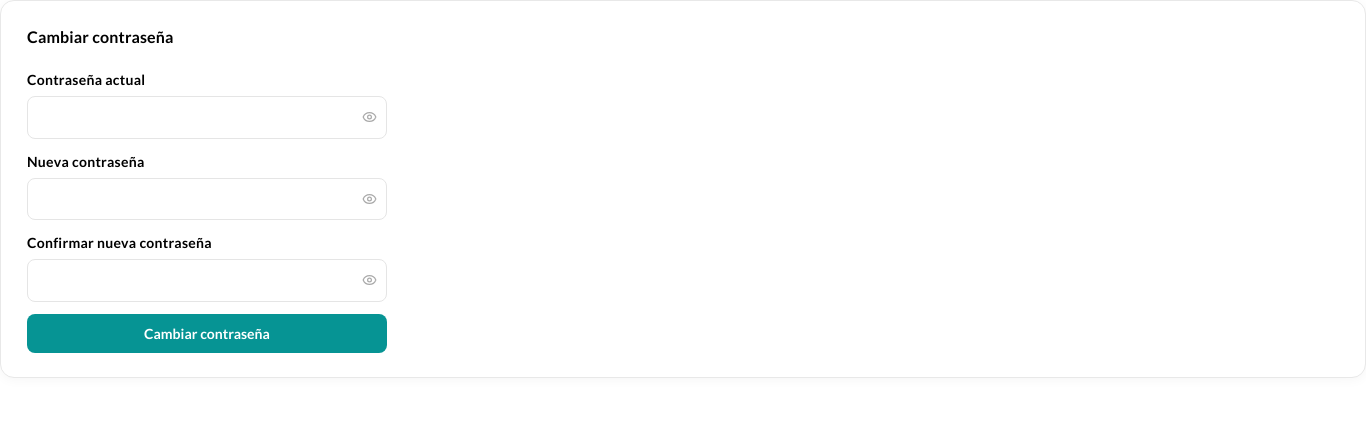
SecuritySection (cambiar contraseña del admin) › no manda nada si falta la contraseña actual
Type "ClaveNueva123" into the password field labelled "Nueva contraseña" at (207, 199), box left=27, top=178, right=387, bottom=220
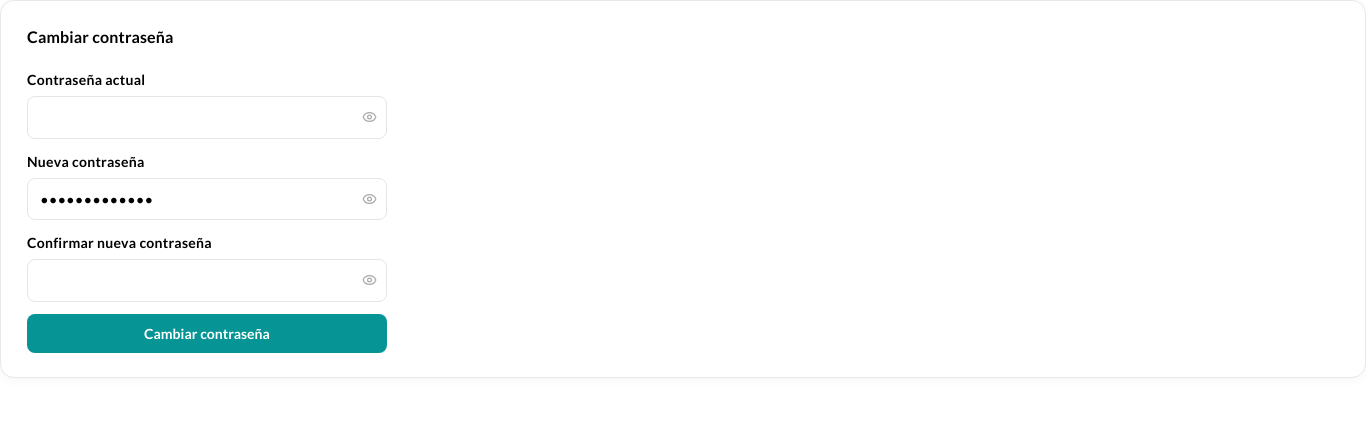
Type "ClaveNueva123" into the password field labelled "Confirmar nueva contraseña" at (207, 280), box left=27, top=259, right=387, bottom=302
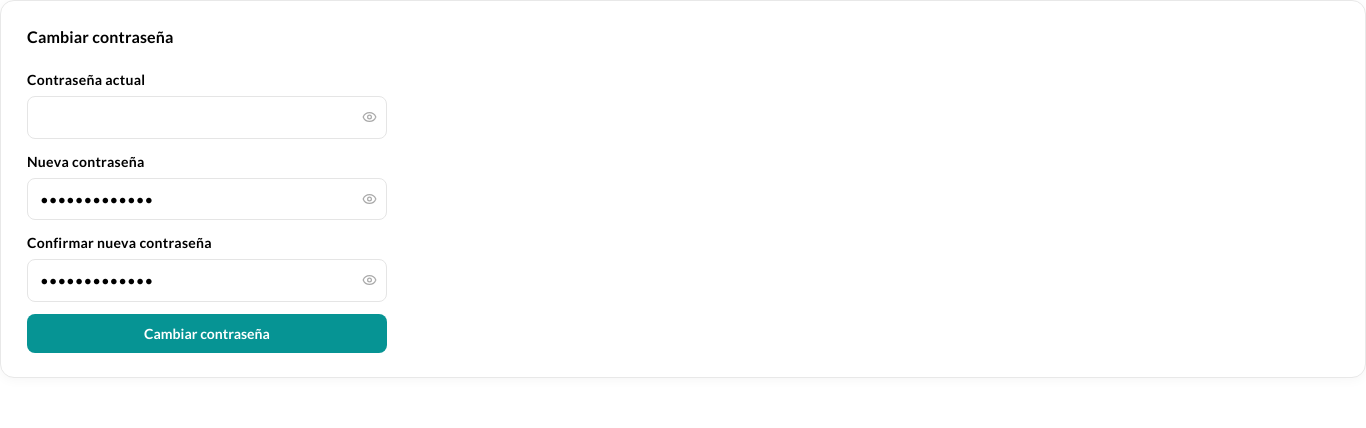
Click the button "Cambiar contraseña" at (207, 333), box left=27, top=314, right=387, bottom=352
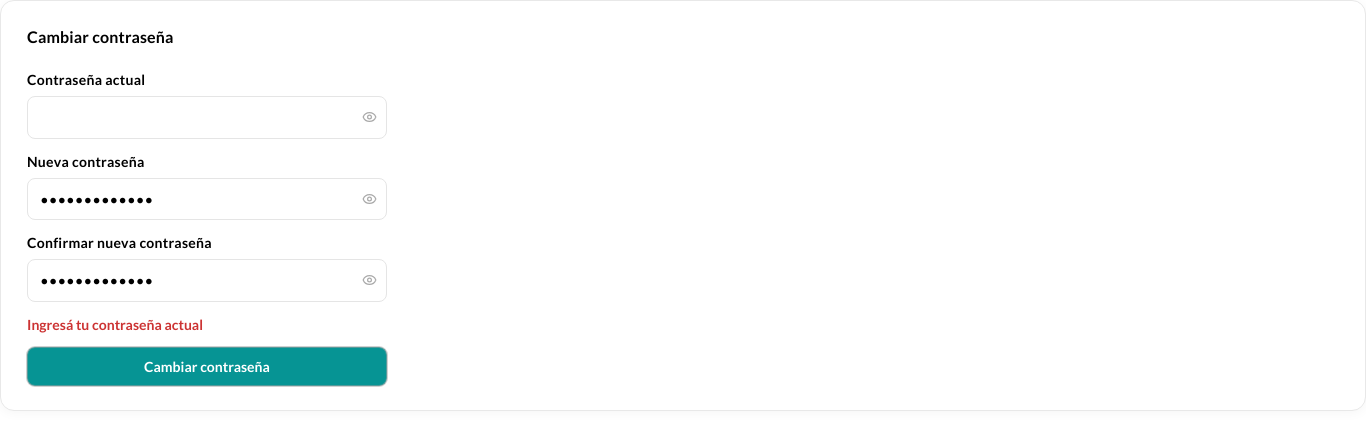
Expected: the text "Ingresá tu contraseña actual" is shown, left=27, top=316, right=203, bottom=332
